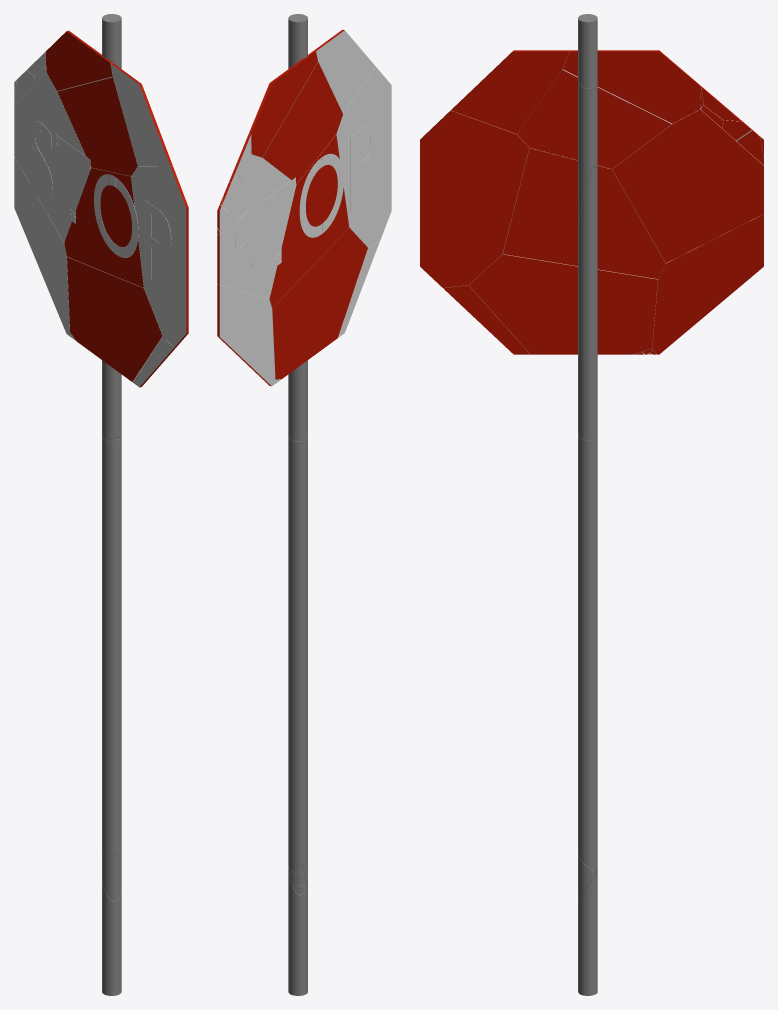
File: StopSignCellFractures.fbx
3 views of the same model, side by side, from view 1: azimuth 30°, elevation 25°; view 2: azimuth 150°, elevation 25°; view 3: azimuth 270°, elevation 25° (orthographic).
Visible parts, largest first — view 1: StopSignPole_cell.008, StopSignMain_cell.011, StopSignMain_cell.001, StopSignMain_cell.005, StopSignMain_cell.003, StopSignMain_cell.002, StopSignMain_cell.006, StopSignMain_cell.008, StopSignMain_cell.010, StopSignPole_cell.005, StopSignPole_cell, STOPText_cell.004 (+6 smaller); view 2: StopSignPole_cell.008, StopSignMain_cell.011, StopSignMain_cell.001, StopSignMain_cell.005, StopSignMain_cell.003, StopSignMain_cell.002, StopSignMain_cell.006, StopSignMain_cell.010, StopSignMain_cell.008, StopSignPole_cell.005, StopSignPole_cell, STOPText_cell.004 (+5 smaller); view 3: StopSignMain_cell.001, StopSignMain_cell.005, StopSignMain_cell.011, StopSignMain_cell.003, StopSignPole_cell.008, StopSignMain_cell.006, StopSignMain_cell.002, StopSignMain_cell.010, StopSignMain_cell.008, StopSignPole_cell, StopSignPole_cell.005, StopSignPole_cell.002 (+2 smaller).
Part boxes in pixels (x1,y1,x2,y2): StopSignPole_cell.008: [102, 436, 121, 858]; StopSignMain_cell.011: [67, 257, 162, 381]; StopSignMain_cell.001: [131, 166, 188, 347]; StopSignMain_cell.005: [14, 72, 90, 242]; StopSignMain_cell.003: [64, 167, 143, 288]; StopSignMain_cell.002: [57, 77, 137, 175]; StopSignMain_cell.006: [14, 156, 70, 335]; StopSignMain_cell.008: [111, 63, 172, 166]; StopSignMain_cell.010: [46, 30, 113, 91]; StopSignPole_cell.005: [102, 886, 121, 995]; StopSignPole_cell: [102, 360, 121, 440]; STOPText_cell.004: [145, 200, 171, 278]; StopSignPole_cell.008: [288, 437, 307, 868]; StopSignMain_cell.011: [272, 227, 367, 379]; StopSignMain_cell.001: [336, 67, 391, 247]; StopSignMain_cell.005: [217, 154, 296, 298]; StopSignMain_cell.003: [269, 134, 348, 308]; StopSignMain_cell.002: [262, 62, 342, 183]; StopSignMain_cell.006: [217, 284, 275, 386]; StopSignMain_cell.010: [249, 50, 317, 157]; StopSignMain_cell.008: [315, 29, 375, 113]; StopSignPole_cell.005: [288, 872, 307, 995]; StopSignPole_cell: [288, 272, 307, 441]; STOPText_cell.004: [350, 125, 376, 211]; StopSignMain_cell.001: [420, 110, 529, 287]; StopSignMain_cell.005: [611, 109, 763, 263]; StopSignMain_cell.011: [468, 254, 658, 354]; StopSignMain_cell.003: [503, 148, 665, 278]; StopSignPole_cell.008: [578, 436, 597, 869]; StopSignMain_cell.006: [652, 214, 763, 354]; StopSignMain_cell.002: [517, 69, 671, 168]; StopSignMain_cell.010: [563, 50, 700, 123]; StopSignMain_cell.008: [451, 50, 570, 133]; StopSignPole_cell: [578, 167, 597, 439]; StopSignPole_cell.005: [578, 873, 597, 995]; StopSignPole_cell.002: [578, 77, 597, 238].
Bounding box in the file's own units: 17.37 × 888 × 284.
